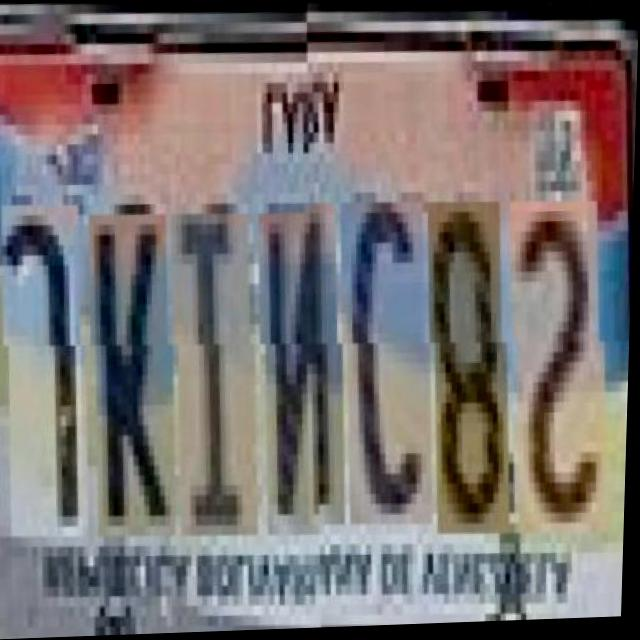8: (431, 200, 523, 536)
c: (344, 201, 445, 527)
i: (175, 202, 270, 528)
j: (4, 193, 101, 529)
k: (93, 203, 188, 529)
n: (262, 201, 358, 527)
s: (513, 200, 620, 536)
